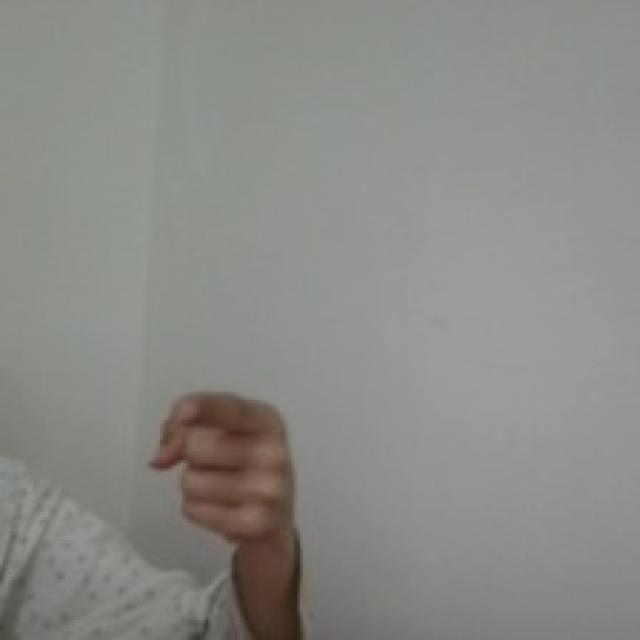you: (143, 385, 306, 545)
